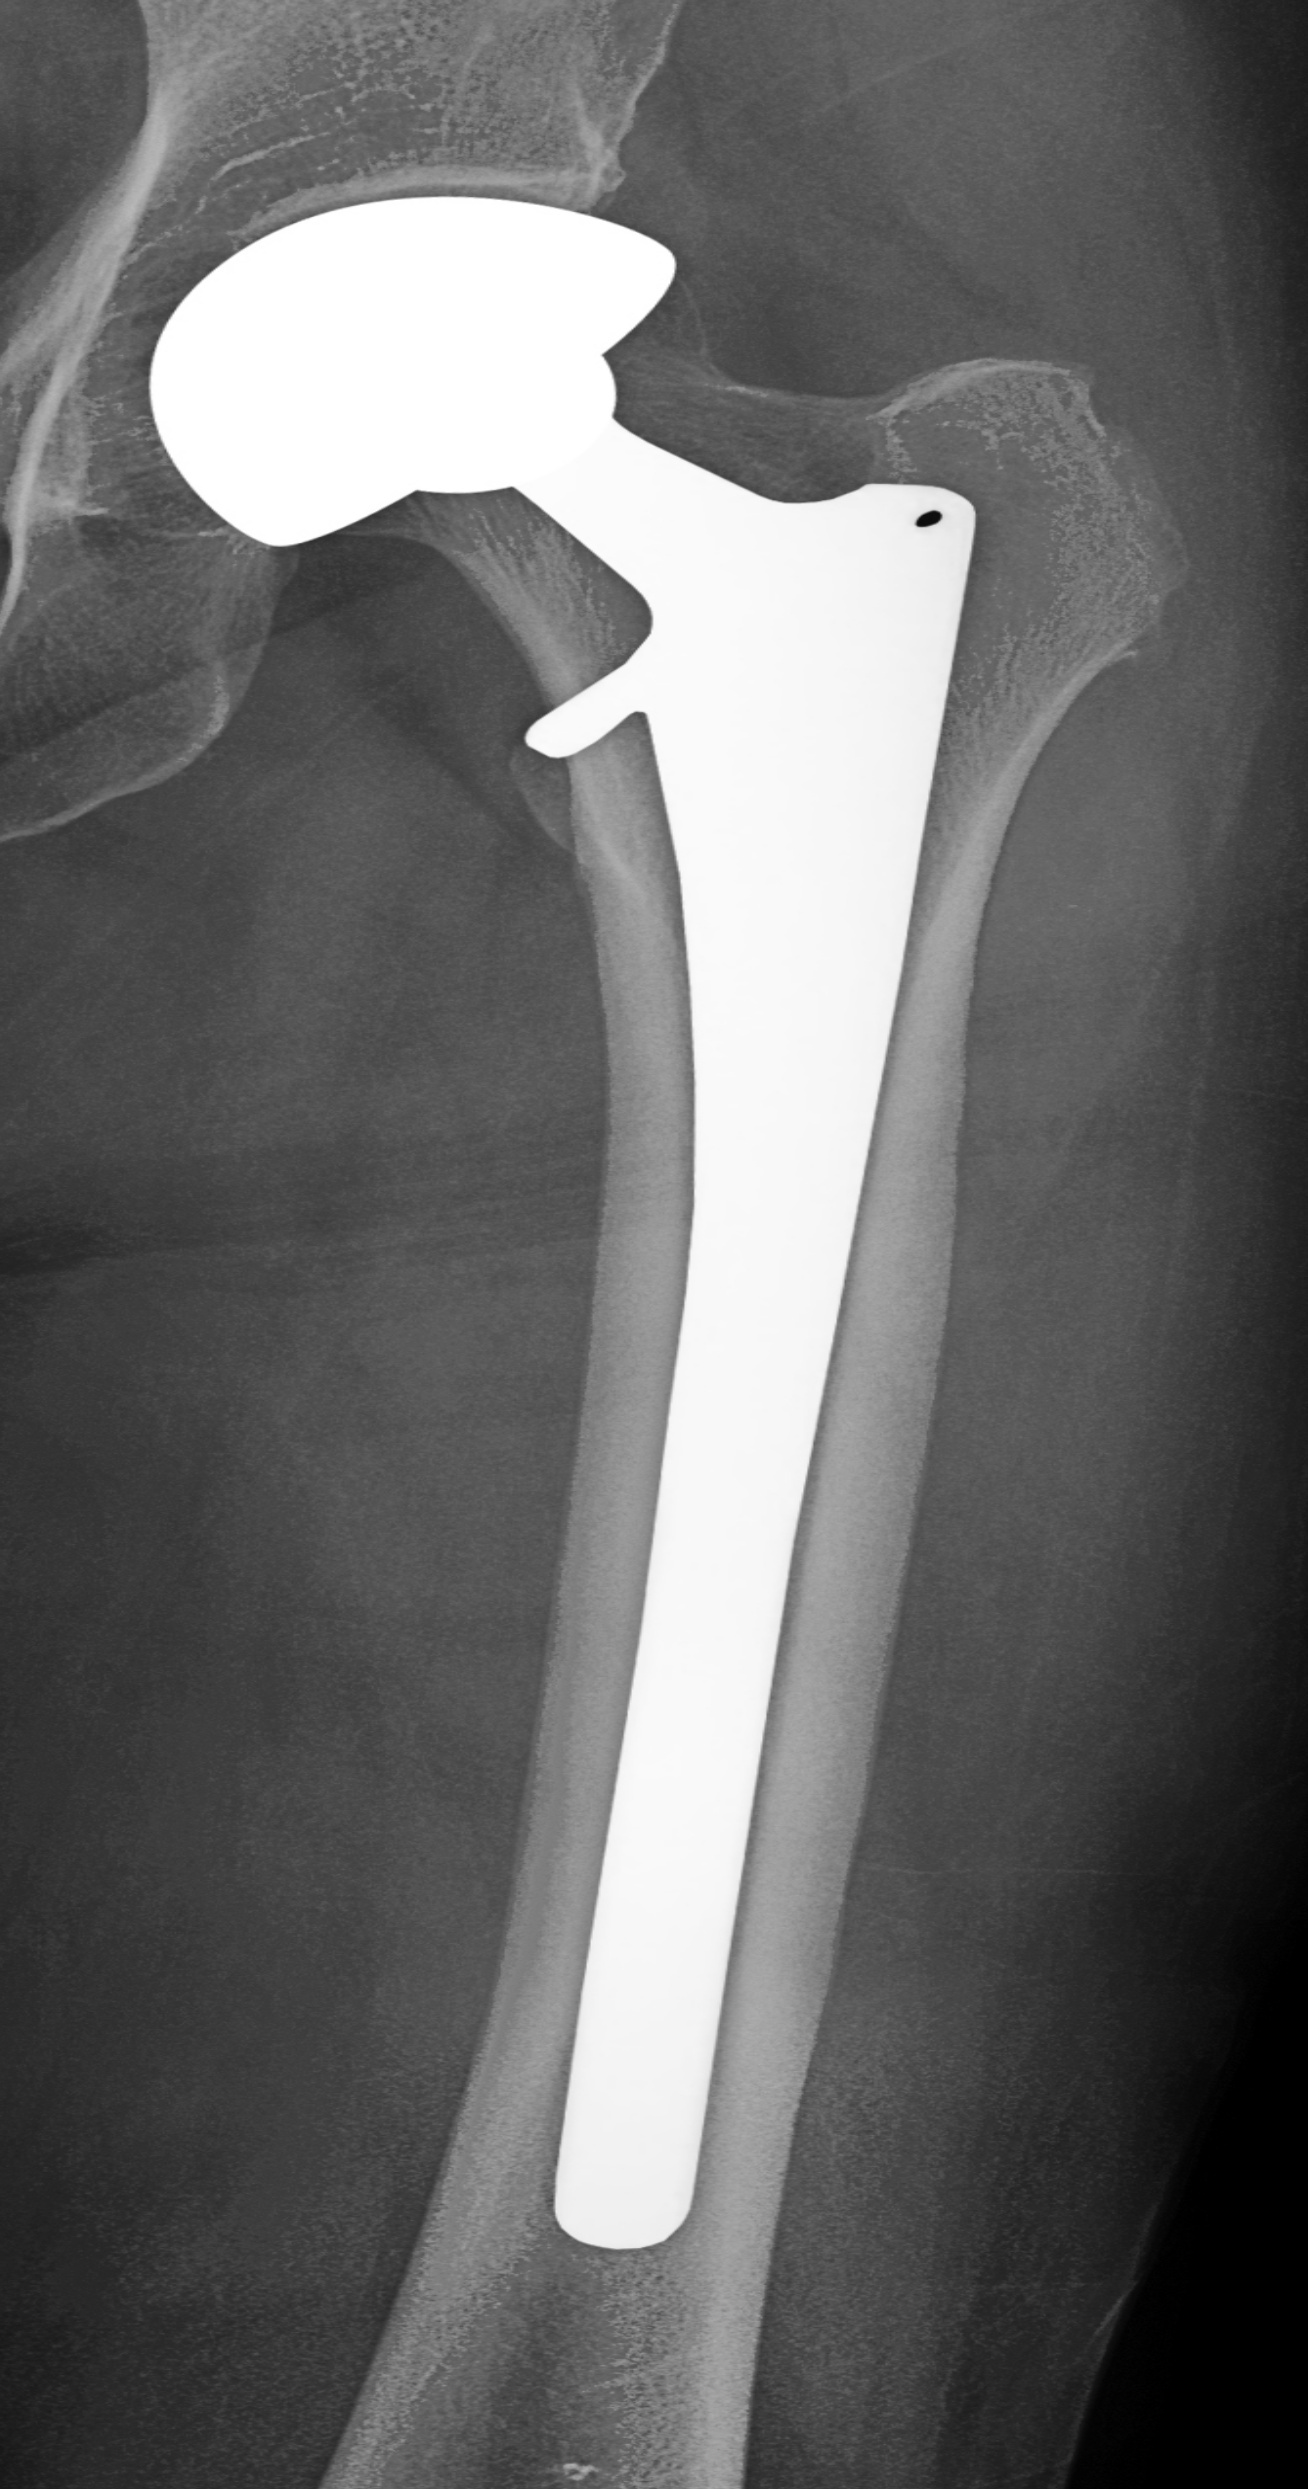Hip-Bias-Zimmer: (123, 199, 977, 2262)
